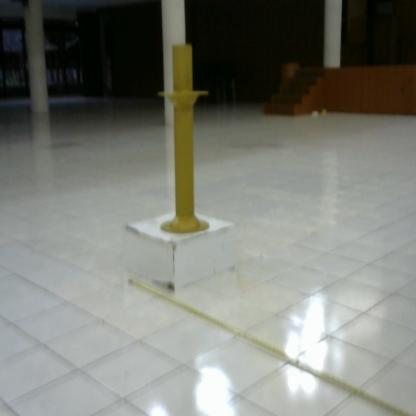pole: (151, 36, 223, 244)
